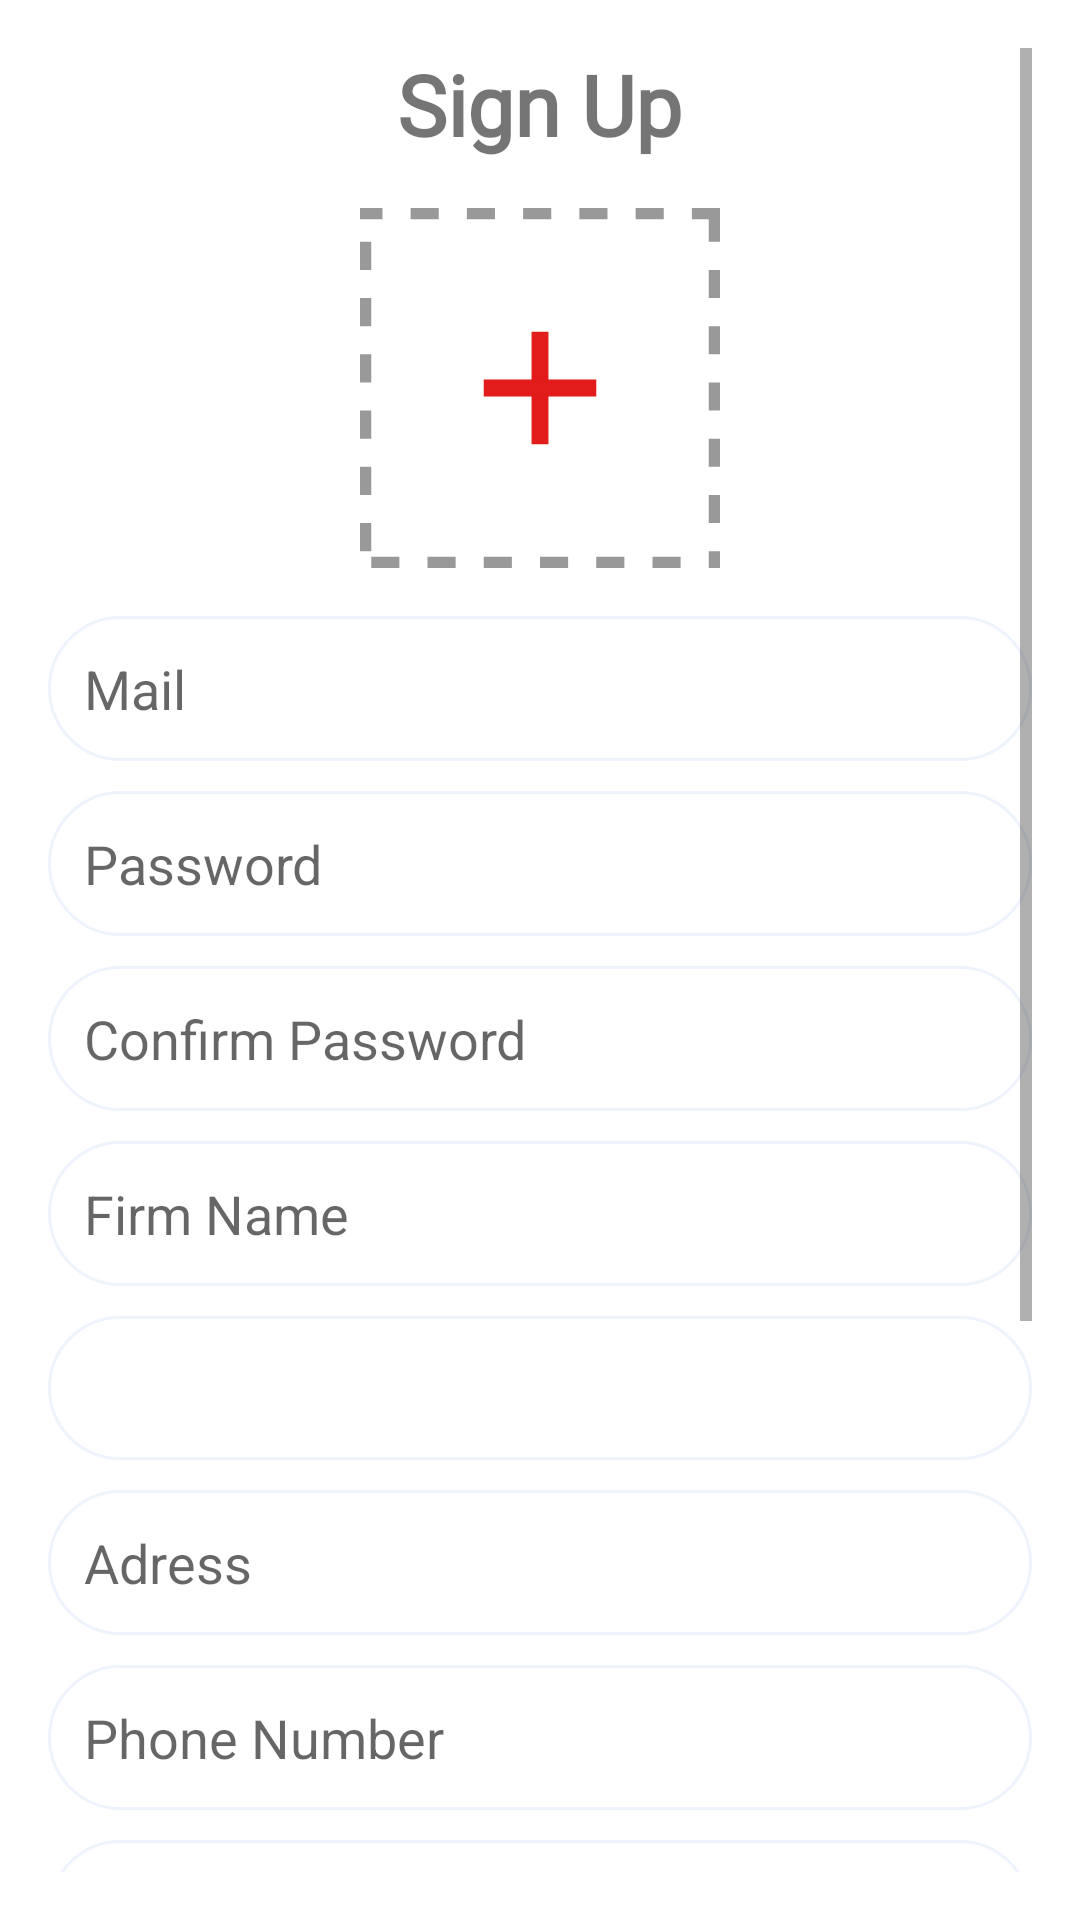

Icons on this 1080 × 1920 Android screen, each with its box as [left=x1, top=y1, right=x2, bottom=y2]:
add frame: [left=360, top=208, right=720, bottom=568]
